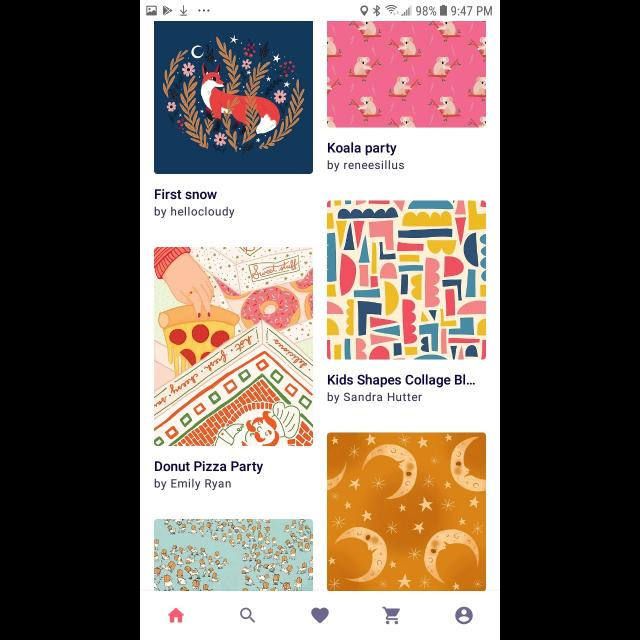icon: (455, 607, 473, 625), (383, 607, 401, 625), (311, 607, 329, 623), (240, 608, 256, 622), (168, 608, 184, 622)
image: (154, 248, 314, 447), (326, 200, 486, 360), (326, 433, 486, 591), (154, 22, 314, 175), (326, 21, 486, 128), (154, 519, 314, 591)
text: (328, 374, 476, 388), (156, 461, 264, 475), (328, 392, 422, 404), (328, 142, 397, 156), (155, 207, 235, 219), (154, 478, 232, 490), (328, 160, 404, 172), (155, 188, 217, 200)
uppertaskbar: (140, 1, 500, 18)
